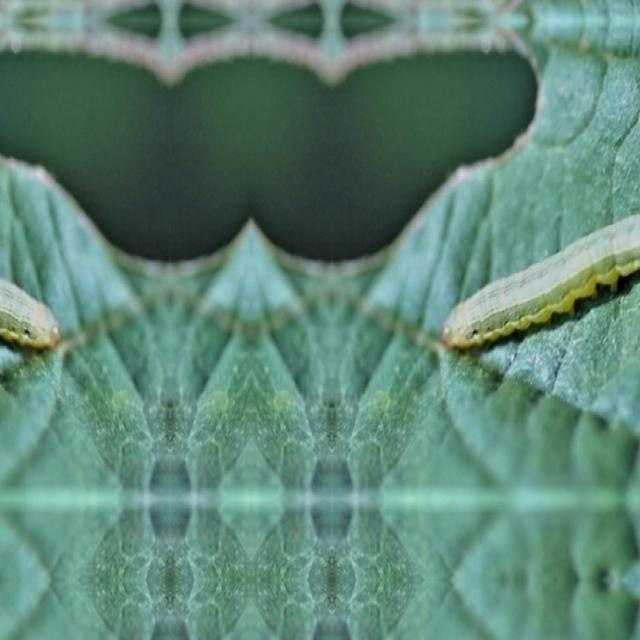armyworm: (439, 210, 639, 352), (0, 273, 61, 353)
